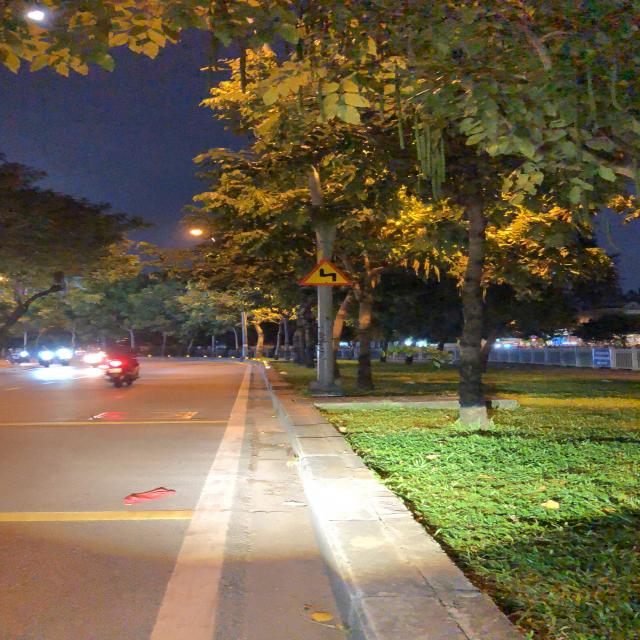Bien bao nhieu cho ngoat nguy hiem lien tiep: (294, 256, 352, 288)
